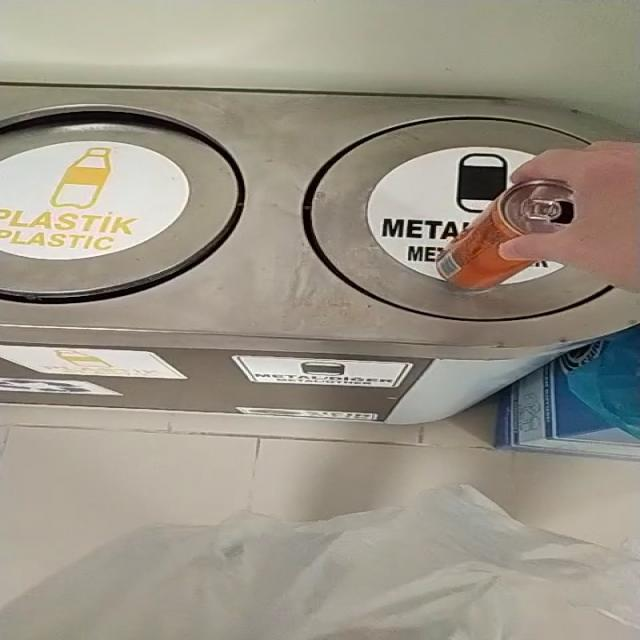Bin: (3, 84, 639, 424)
Metal: (437, 180, 575, 289)
